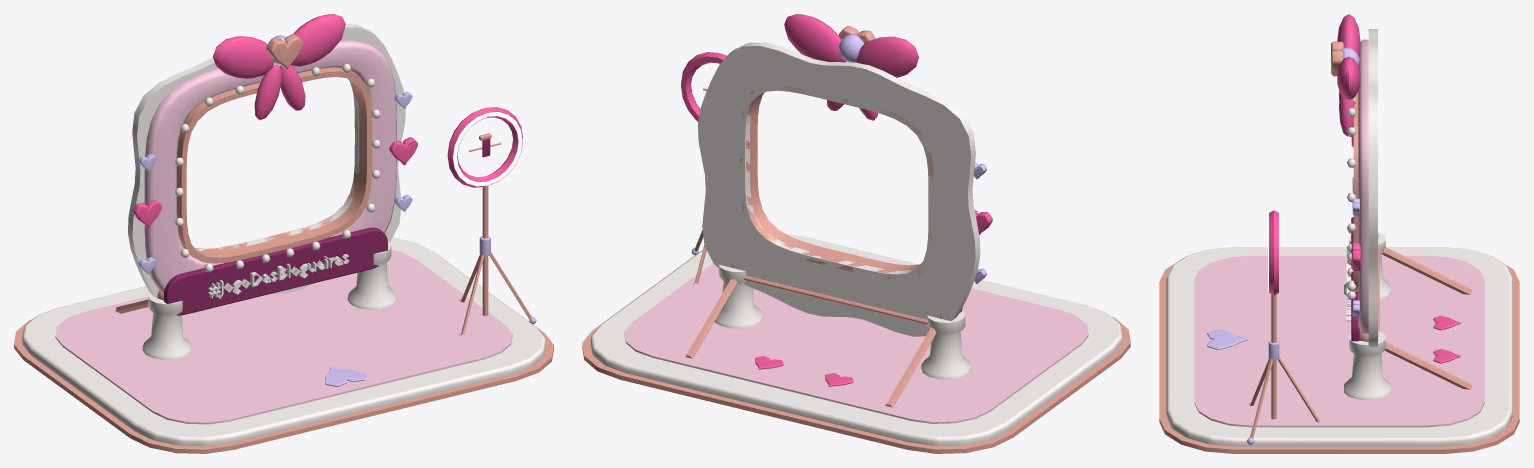
The model's file is photo_spot_frame.glb.
The picture shows the model from 3 angles, left to right: view 1: azimuth 30°, elevation 25°; view 2: azimuth 150°, elevation 25°; view 3: azimuth 270°, elevation 25°; orthographic projection. The views are drawn at different scales.
Visible parts, largest first — view 1: photo_spot_frame; view 2: photo_spot_frame; view 3: photo_spot_frame.
Boxes of the visible parts, x1,y1,x2,y2 form: photo_spot_frame: [14, 14, 553, 453]; photo_spot_frame: [582, 14, 1130, 453]; photo_spot_frame: [1159, 14, 1519, 453].
Size of the model in its own units: 5.05 by 3.71 by 3.85.
